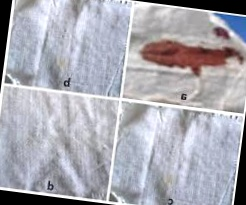blood: (139, 32, 245, 81)
